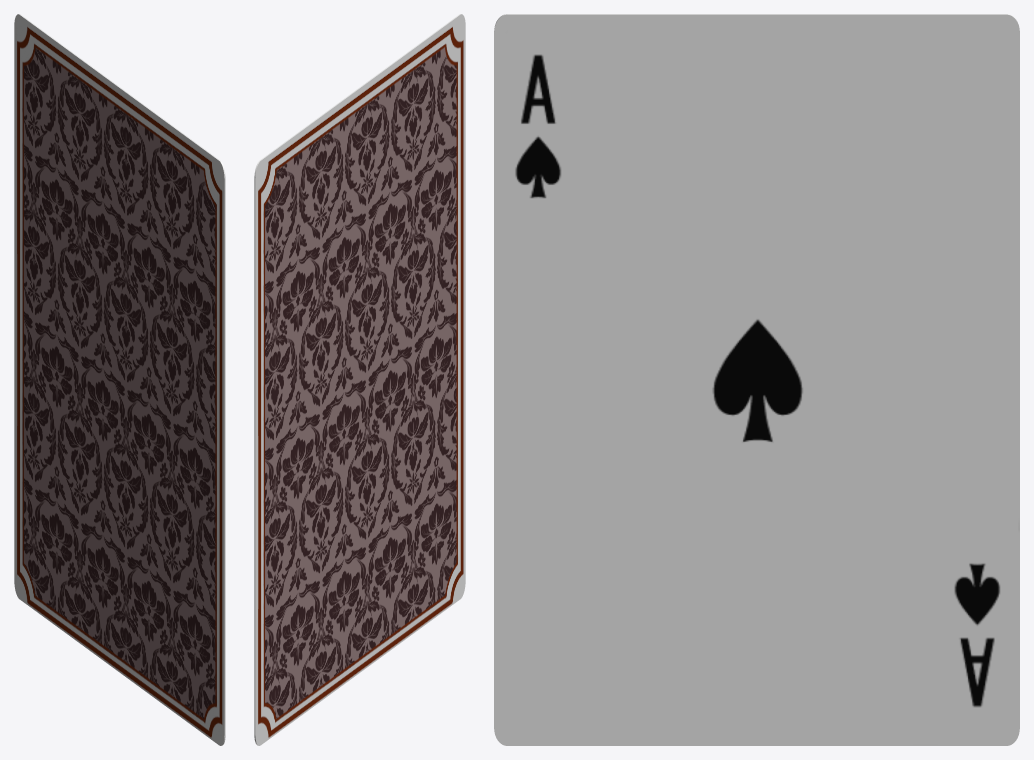
File: spade1.glb
3 views of the same model, side by side, from view 1: azimuth 30°, elevation 25°; view 2: azimuth 150°, elevation 25°; view 3: azimuth 270°, elevation 25° (orthographic). The views are drawn at different scales.
Visible parts, largest first — view 1: Cube; view 2: Cube; view 3: Cube.
Part boxes in pixels (x1,y1,x2,y2): Cube: (14, 14, 225, 745); Cube: (254, 14, 465, 745); Cube: (494, 14, 1019, 745).
Size of the model in its own units: 0.036 by 17.8 by 11.6.
Materials: 1 (1 with a texture image).
